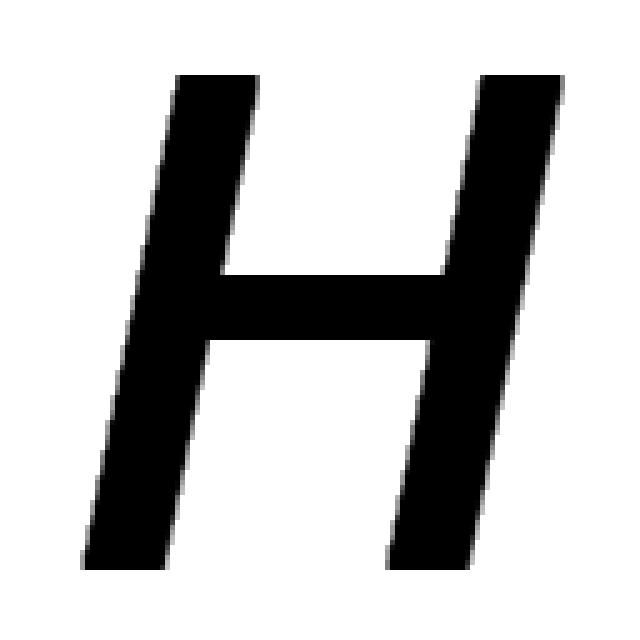H: (75, 60, 570, 575)
